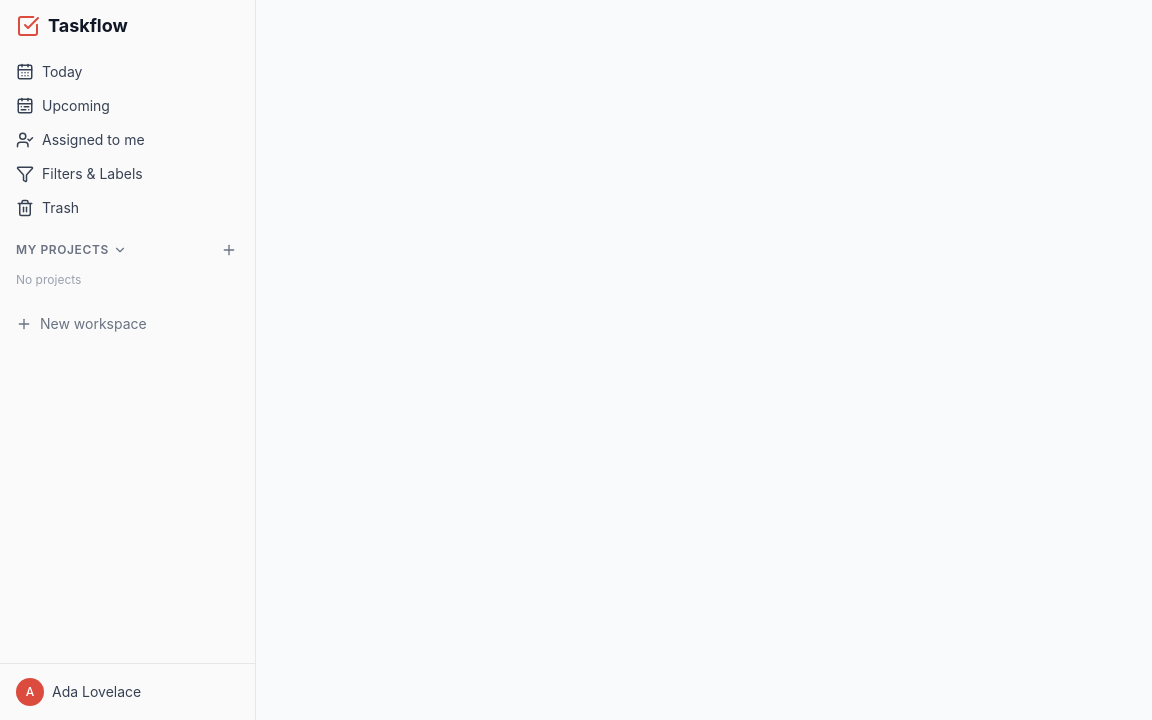
it: Sidebar spaces › starts a new workspace from the sidebar
The image size is (1152, 720).
What coordinates should you click on to do the following:
click the button "New workspace"
I would click on:
 (128, 324)
Its box is top-left (8, 308), bottom-right (247, 340).
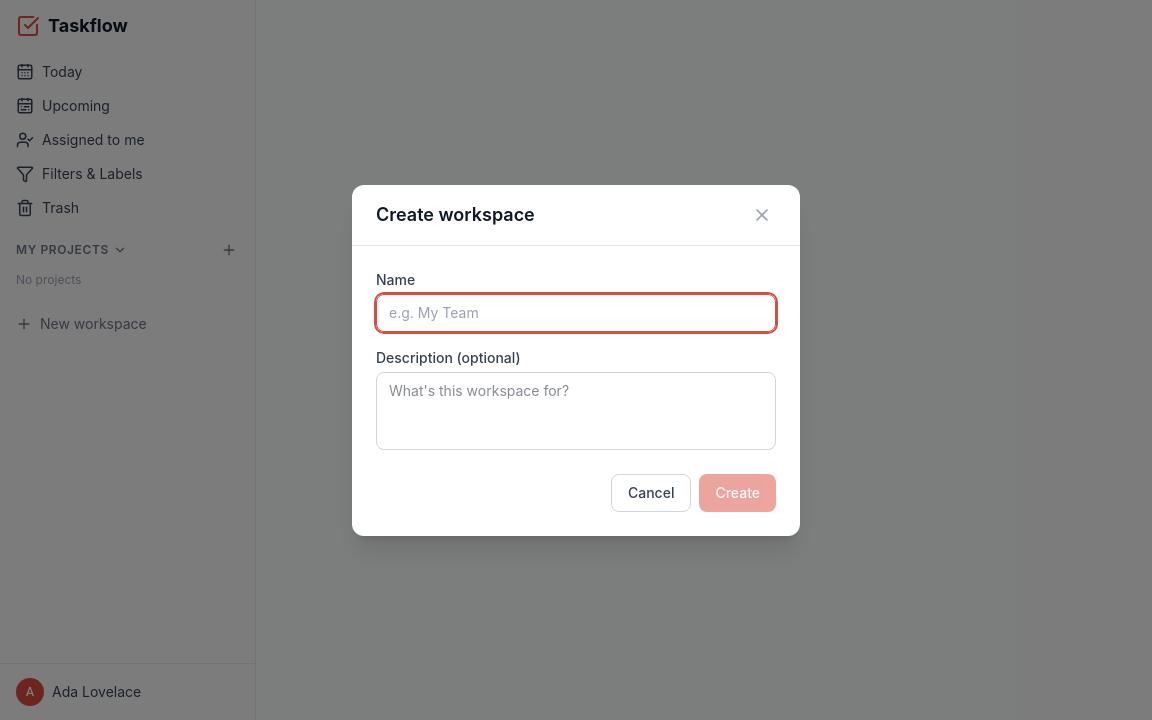
Now the dialog "Create workspace" is shown, box top-left (352, 184), bottom-right (800, 536)
